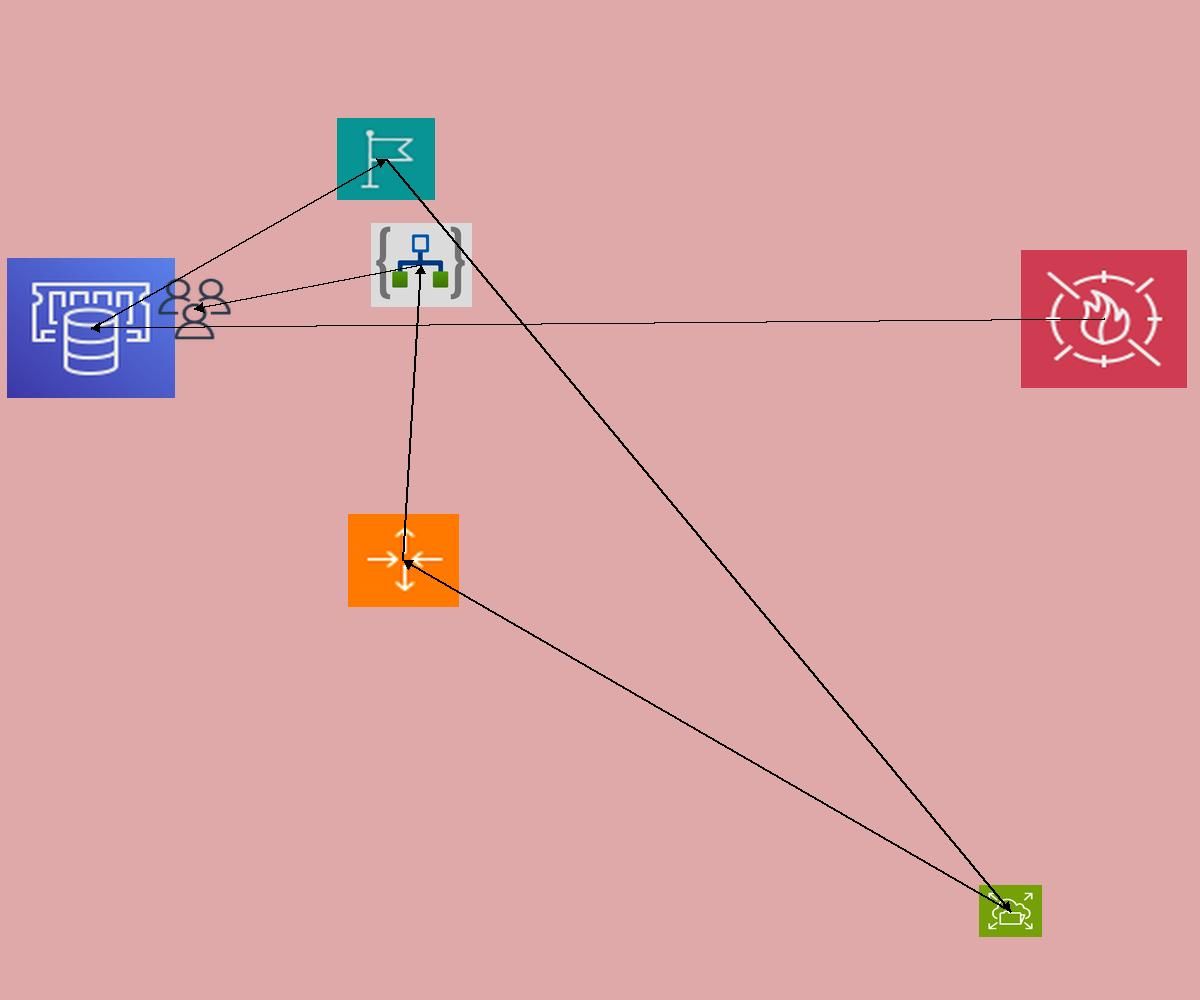AWS-EFS: (979, 885, 1042, 937)
AWS-ElastiCache: (7, 258, 175, 398)
AWS-Region: (337, 118, 435, 200)
AWS-Res_Users: (155, 276, 234, 342)
AWS-Scaling-group: (348, 514, 459, 607)
AWS-WAF: (1021, 250, 1187, 388)
Azure_integration-204-Logic-Apps: (371, 223, 472, 307)
